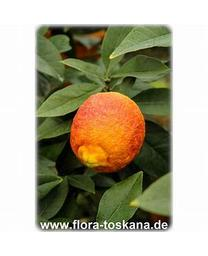lemon: (71, 90, 145, 176)
